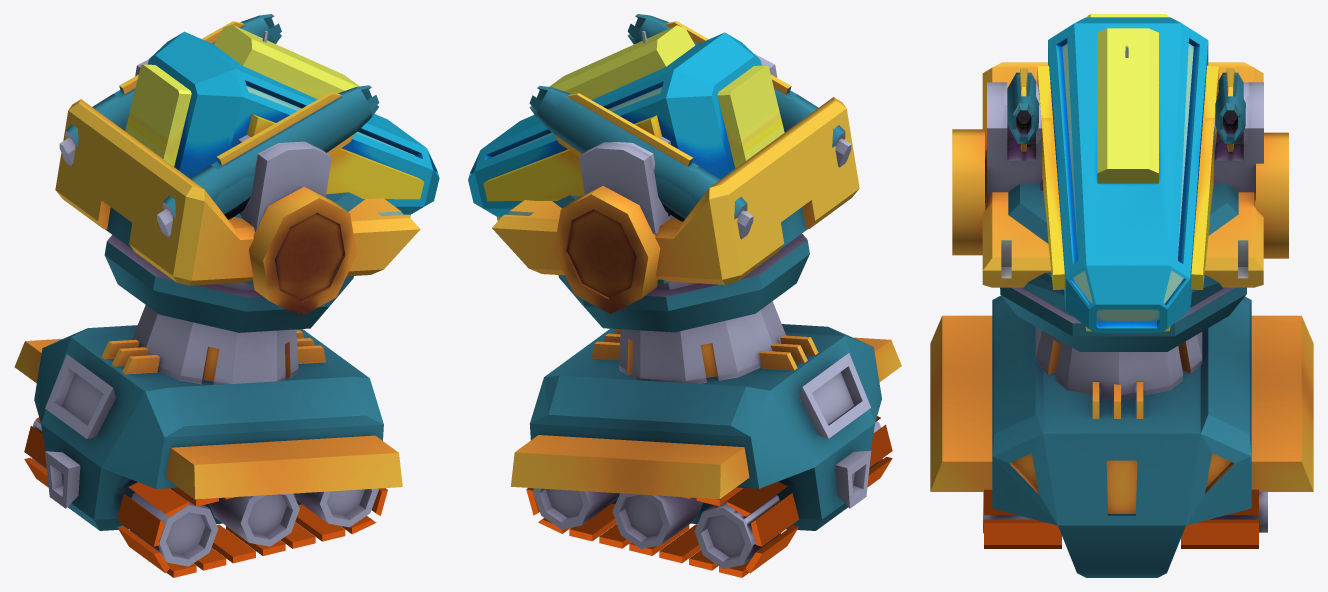
File: Player_moving_upgrade5.obj
3 views of the same model, side by side, from view 1: azimuth 30°, elevation 25°; view 2: azimuth 150°, elevation 25°; view 3: azimuth 270°, elevation 25° (orthographic). The views are drawn at different scales.
Visible parts, largest first — view 1: Object015, Object014, Box009, Box017, Box016; view 2: Object015, Object014, Box009, Box016, Box017; view 3: Object015, Object014, Box017, Box016, Box009.
Part boxes in pixels (box(x1,y1,x2,y2)): Object015: box(14, 24, 439, 530); Object014: box(59, 14, 379, 237); Box009: box(32, 420, 378, 566); Box017: box(117, 482, 387, 577); Box016: box(24, 417, 48, 487); Object015: box(468, 25, 901, 530); Object014: box(529, 14, 851, 239); Box009: box(533, 421, 882, 568); Box016: box(526, 481, 798, 577); Box017: box(867, 416, 892, 487); Object015: box(930, 14, 1313, 577); Object014: box(1007, 68, 1245, 151); Box017: box(984, 489, 1061, 548); Box016: box(1181, 489, 1258, 548); Box009: box(983, 492, 1267, 533).
Bounding box in the file's own units: 70.38 × 88.9 × 59.78.
5 materials, 3 textured.
